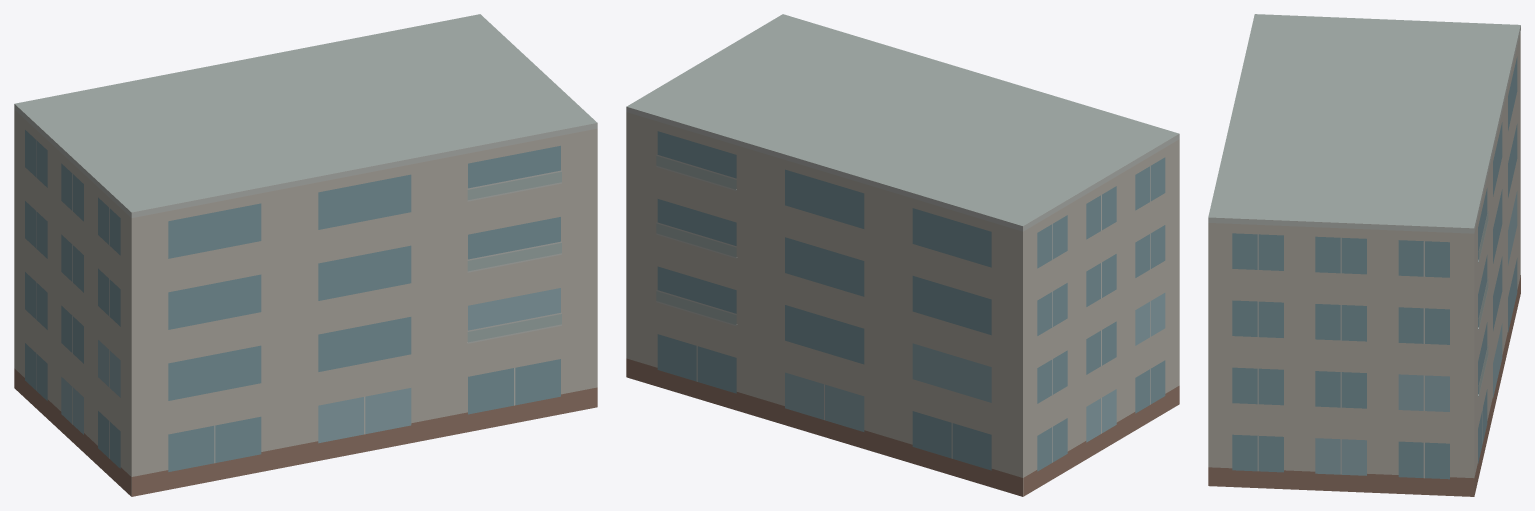
File: residential-2c3d0d11-ac26-4a34-a1f5-86765eabcbf4.glb
3 renders of one model, left to right at view 1: azimuth 30°, elevation 25°; view 2: azimuth 150°, elevation 25°; view 3: azimuth 270°, elevation 25°, orthographic. The views are drawn at different scales.
Parts seen in each view (by area): view 1: residential-2c3d0d11-ac26-4a34-a1f5-86765eabcbf4.tmp; view 2: residential-2c3d0d11-ac26-4a34-a1f5-86765eabcbf4.tmp; view 3: residential-2c3d0d11-ac26-4a34-a1f5-86765eabcbf4.tmp.
Boxes of the visible parts, bbox=[...] form: residential-2c3d0d11-ac26-4a34-a1f5-86765eabcbf4.tmp: bbox=[14, 14, 597, 496]; residential-2c3d0d11-ac26-4a34-a1f5-86765eabcbf4.tmp: bbox=[626, 14, 1179, 496]; residential-2c3d0d11-ac26-4a34-a1f5-86765eabcbf4.tmp: bbox=[1208, 14, 1520, 496].
Bounding box in the file's own units: 20.89 × 12.2 × 12.88.
